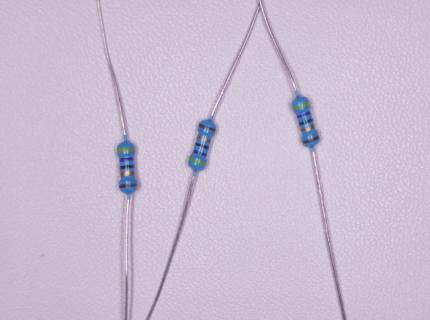Gold band: (197, 136, 211, 144), (301, 124, 315, 131), (120, 171, 135, 177)
Violet band: (193, 150, 207, 157), (297, 111, 311, 118), (119, 157, 134, 162)
Yellow band: (293, 102, 310, 110), (189, 158, 206, 165), (117, 148, 135, 153)
